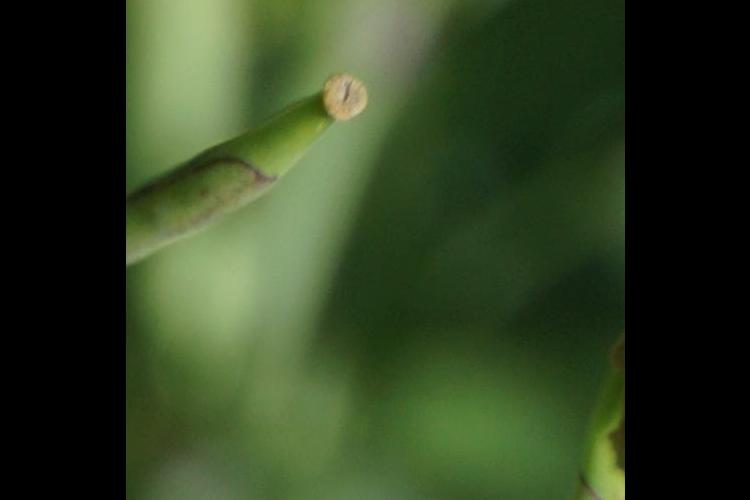pod: (127, 54, 377, 264)
